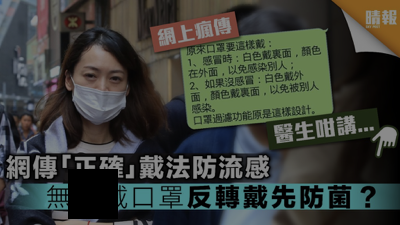with_mask: (68, 63, 129, 128)
